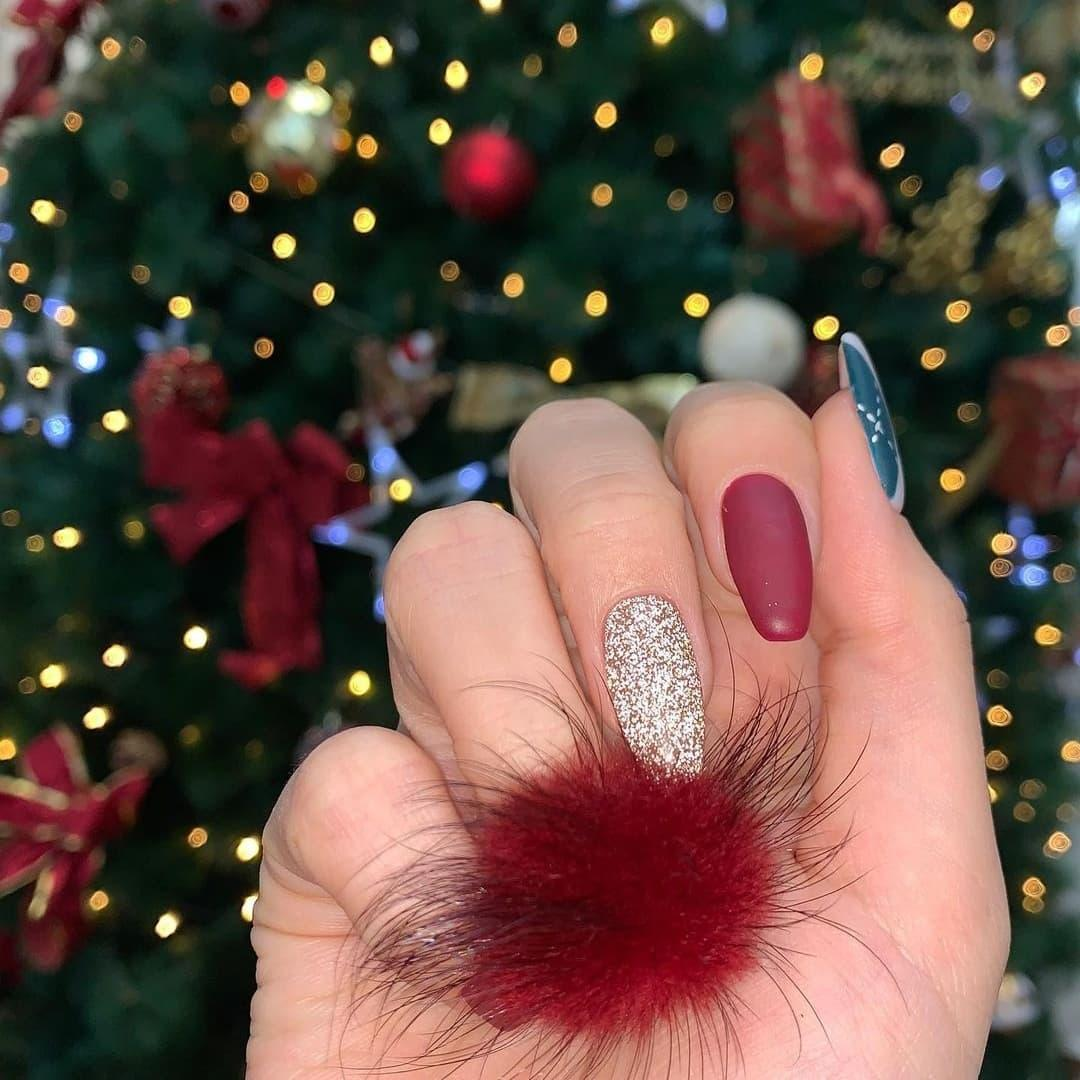nail: (719, 470, 814, 642), (836, 330, 905, 514)
